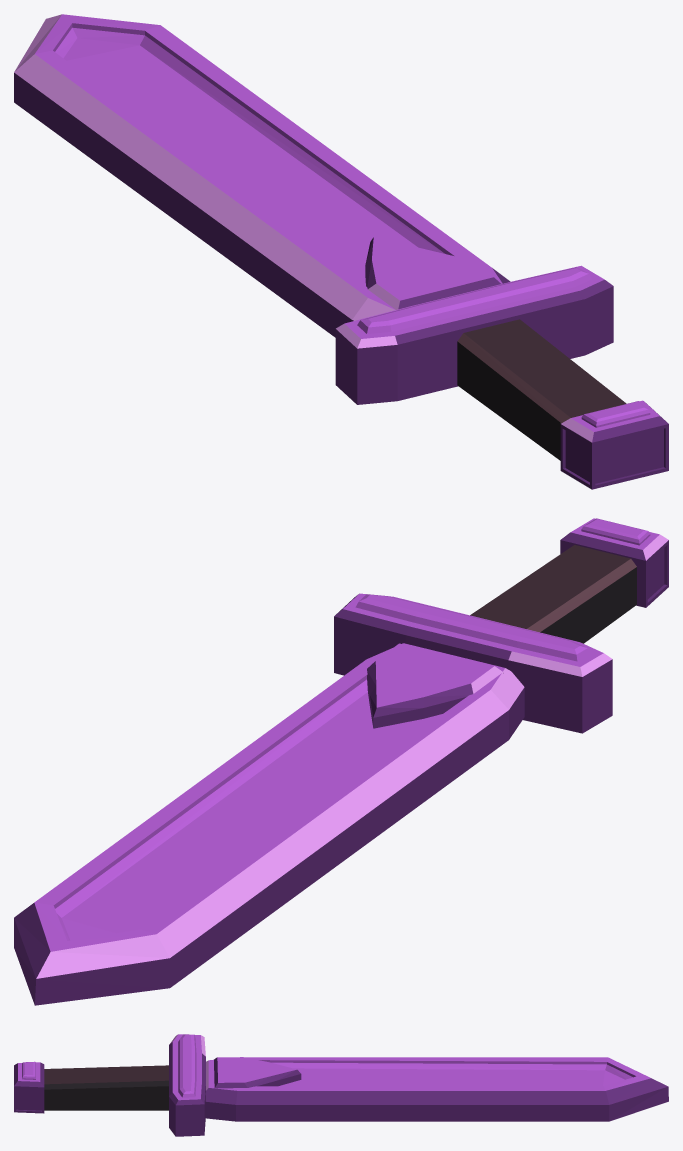
Rendered from amethyst_sword.fbx.
The picture shows the model from 3 angles, top to bottom: view 1: azimuth 30°, elevation 25°; view 2: azimuth 150°, elevation 25°; view 3: azimuth 270°, elevation 25°; orthographic projection. The views are drawn at different scales.
Parts seen in each view (by area): view 1: amethyst_sword; view 2: amethyst_sword; view 3: amethyst_sword.
Boxes of the visible parts, left/top/right/bottom form: amethyst_sword: left=14, top=14, right=668, bottom=489; amethyst_sword: left=14, top=518, right=668, bottom=1005; amethyst_sword: left=14, top=1034, right=668, bottom=1136.
Size of the model in its own units: 0.6 by 0.1572 by 2.39.
1 material, 1 textured.
